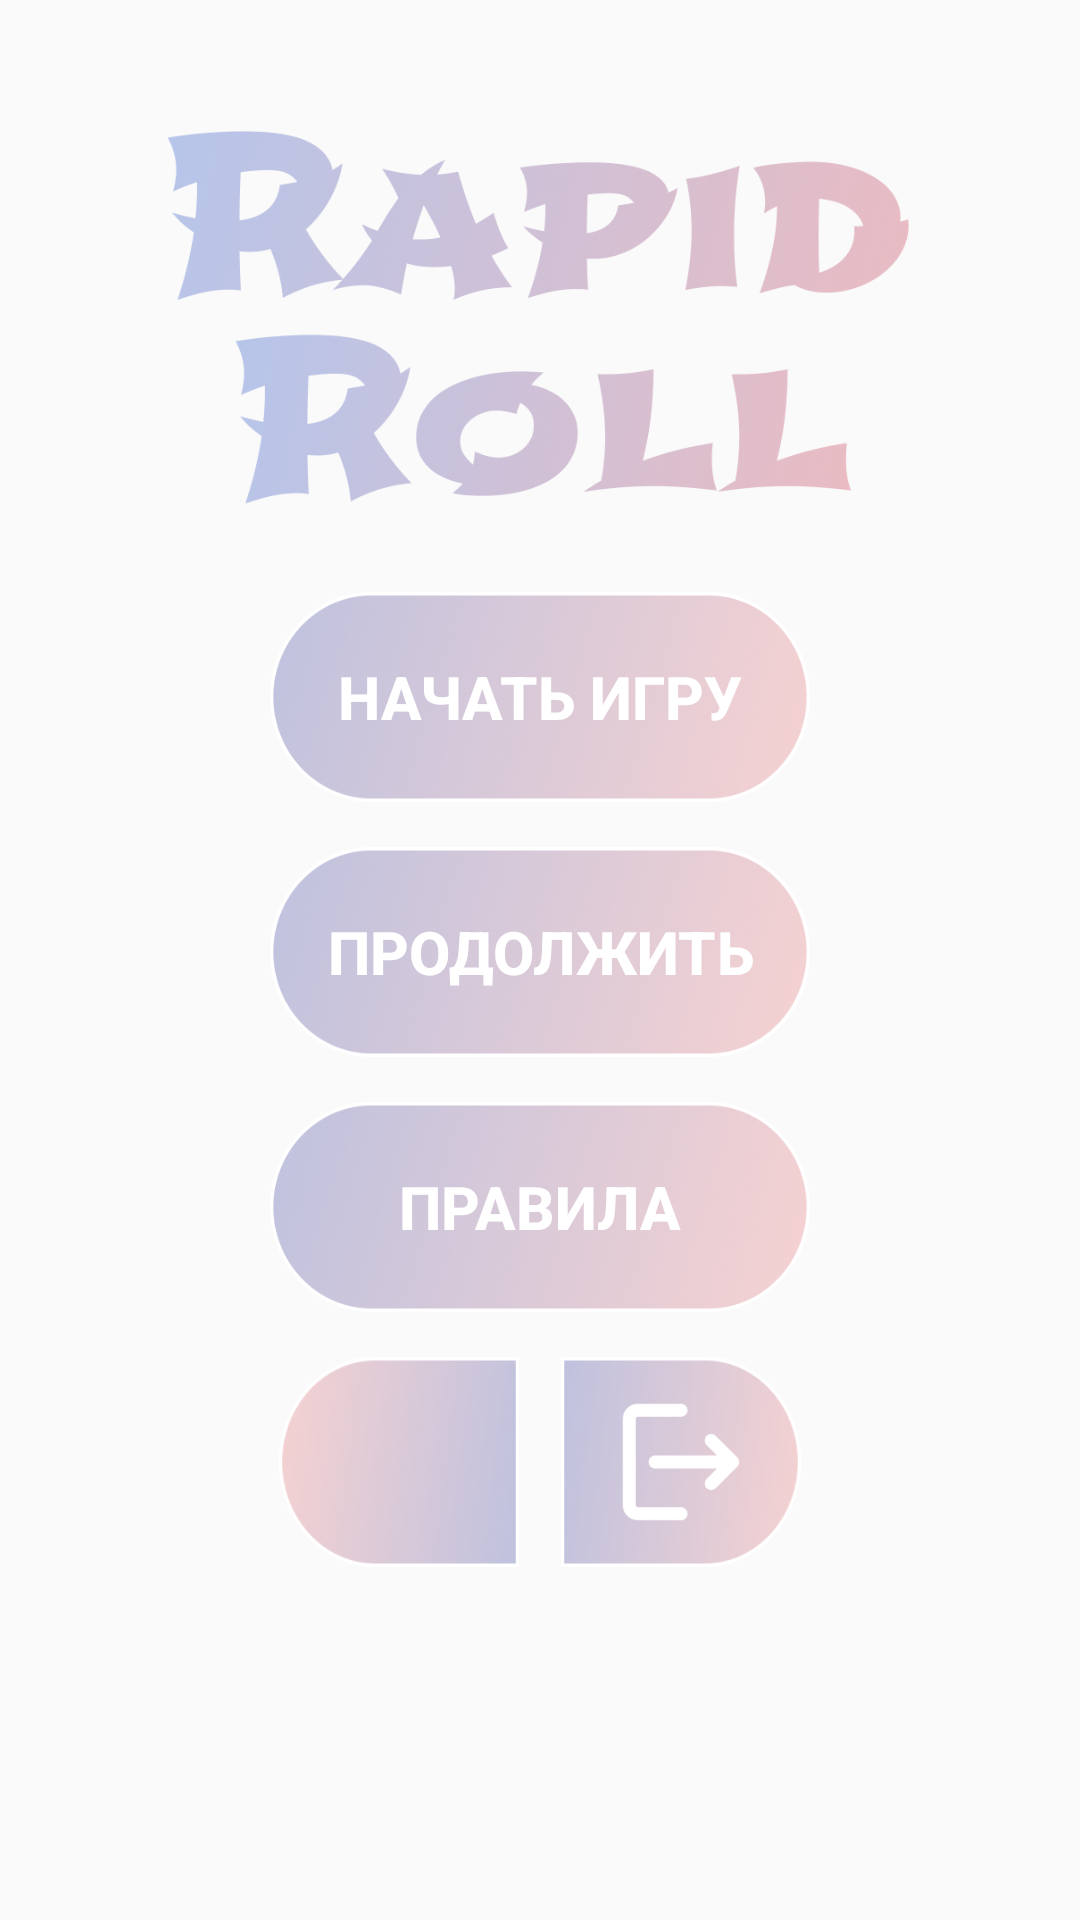

Screen size 1080 x 1920. Icon name, then its center in pixels as (x,y):
exit: (681,1462)
